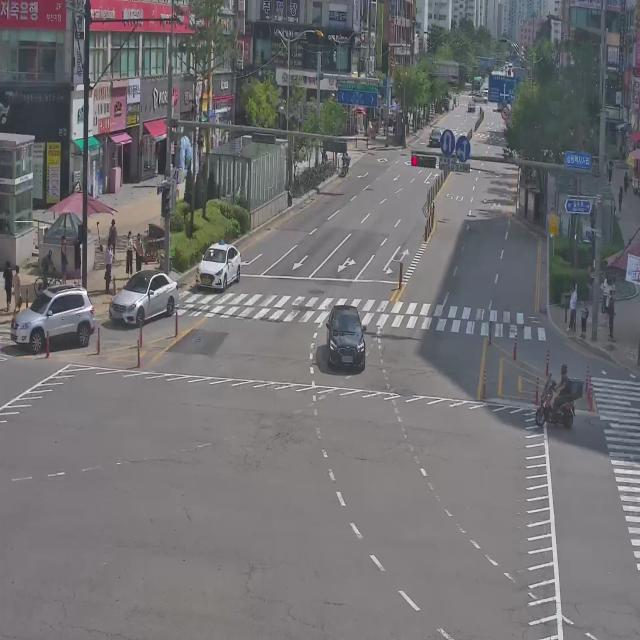Car: (10, 284, 95, 354), (109, 269, 179, 328), (325, 305, 366, 372), (195, 242, 241, 291), (428, 128, 442, 146)
Motorcycle: (534, 363, 585, 428)
